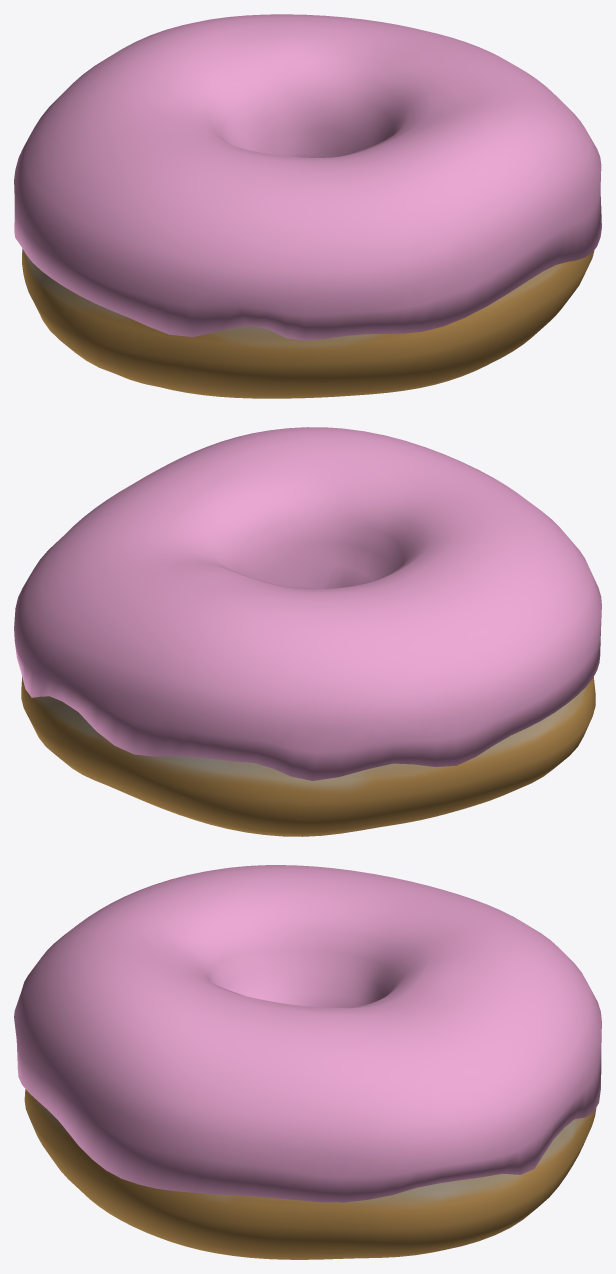
Rendered from donut.gltf.
3 renders of one model, top to bottom at view 1: azimuth 30°, elevation 25°; view 2: azimuth 150°, elevation 25°; view 3: azimuth 270°, elevation 25°, orthographic. The views are drawn at different scales.
Visible parts, largest first — view 1: Icing, Donut; view 2: Icing, Donut; view 3: Icing, Donut.
Part boxes in pixels (<box>): Icing: <box>14,14,601,340</box>; Donut: <box>22,248,594,398</box>; Icing: <box>14,427,601,780</box>; Donut: <box>21,676,595,836</box>; Icing: <box>14,865,601,1202</box>; Donut: <box>24,1089,596,1259</box>.
Bounding box in the file's own units: 0.0972 × 0.0442 × 0.0962.
Materials: 2 (1 with a texture image).
